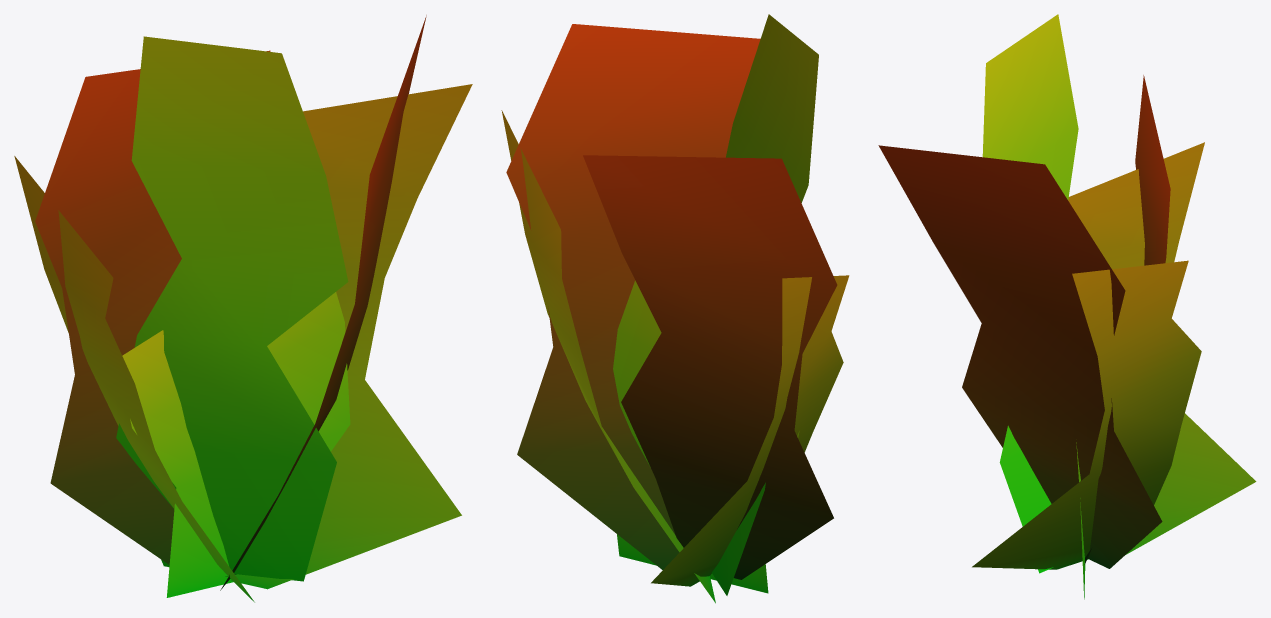
The model's file is Var8Hi5.fbx.
3 renders of one model, left to right at view 1: azimuth 30°, elevation 25°; view 2: azimuth 150°, elevation 25°; view 3: azimuth 270°, elevation 25°, orthographic. The views are drawn at different scales.
Visible parts, largest first — view 1: bend1; view 2: bend1; view 3: bend1.
Part boxes in pixels (left/top/right/bottom): bend1: left=14, top=15, right=472, bottom=602; bend1: left=501, top=14, right=849, bottom=603; bend1: left=878, top=14, right=1256, bottom=599.
Size of the model in its own units: 1.27 by 1.76 by 1.2.
